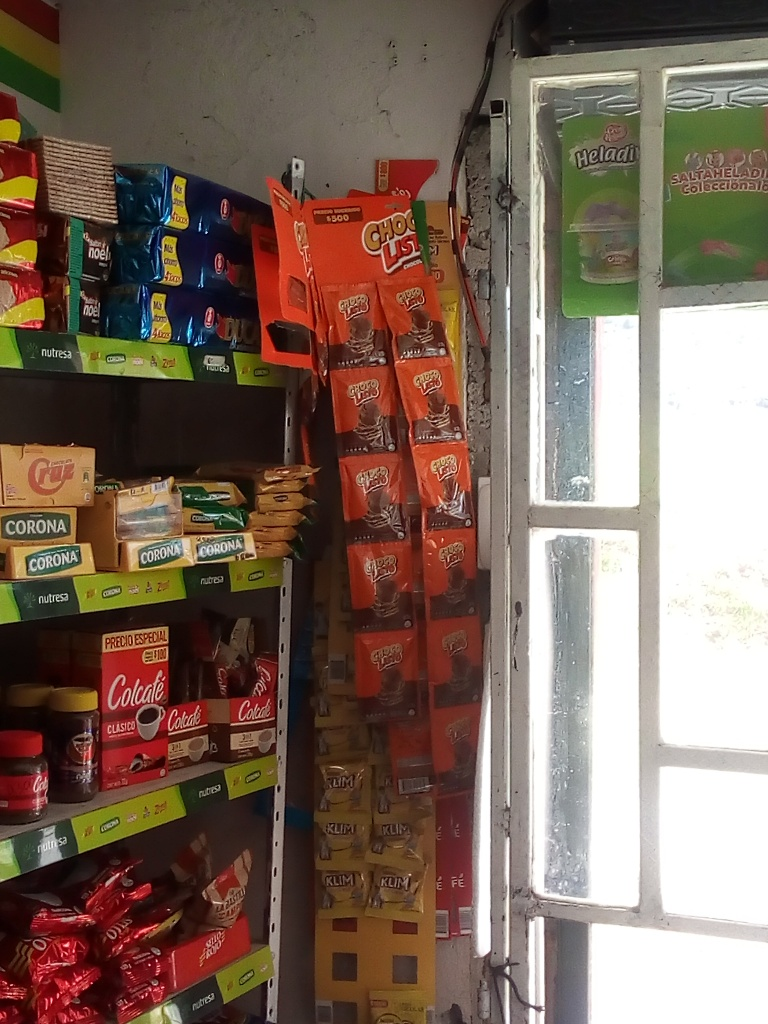COL0170103SOB02000: (324, 291, 389, 365)
